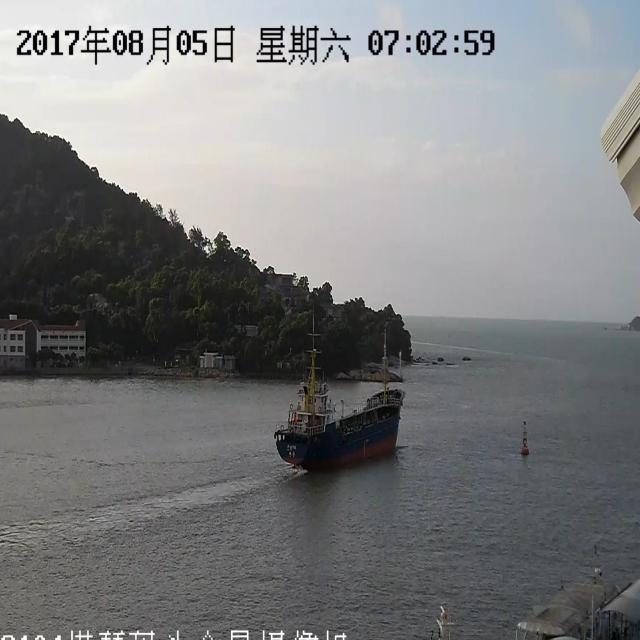buoy: (520, 414, 550, 480)
houseboat: (268, 315, 426, 476)
